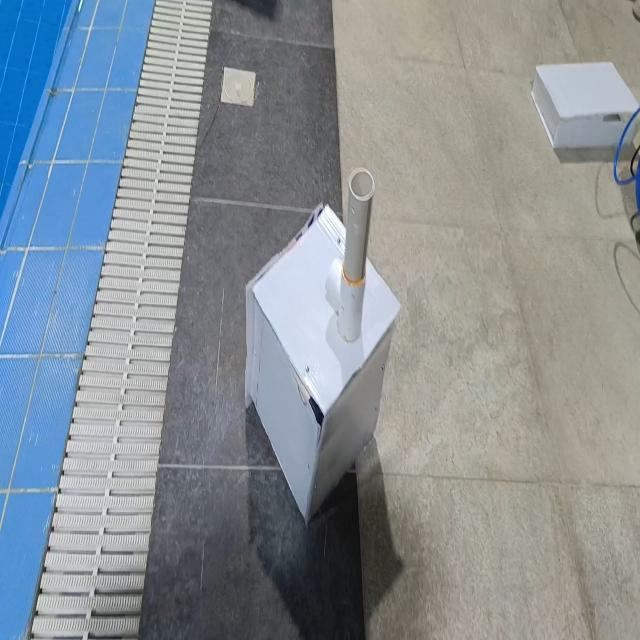Cube: (244, 198, 401, 526)
Cuboid: (530, 58, 639, 152)
